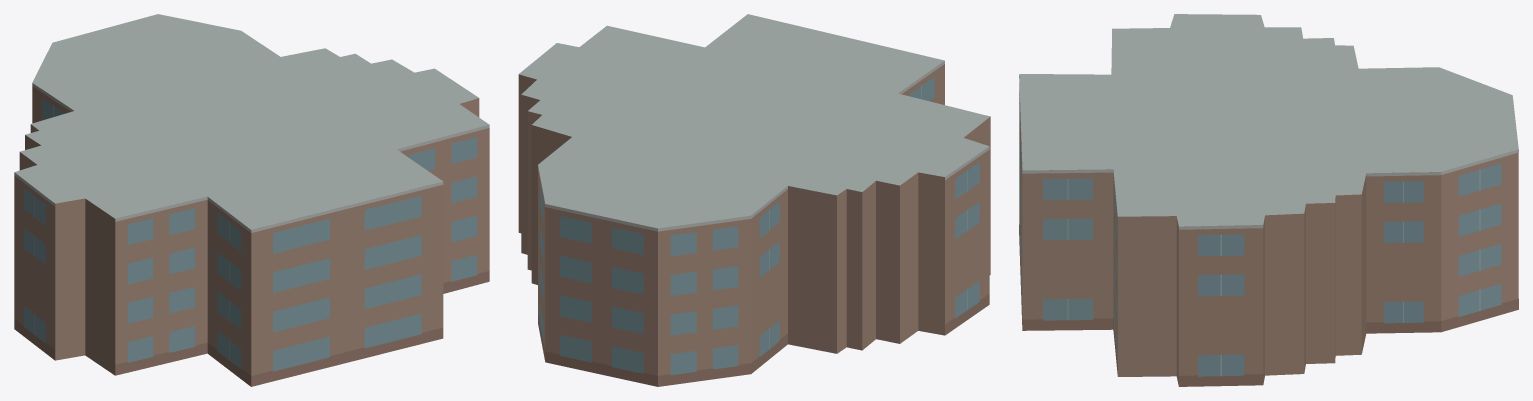
Rendered from survey-upis-32867643.glb.
3 views of the same model, side by side, from view 1: azimuth 30°, elevation 25°; view 2: azimuth 150°, elevation 25°; view 3: azimuth 270°, elevation 25° (orthographic). The views are drawn at different scales.
Visible parts, largest first — view 1: survey-upis-32867643.tmp; view 2: survey-upis-32867643.tmp; view 3: survey-upis-32867643.tmp.
Boxes of the visible parts, bbox=[...] form: survey-upis-32867643.tmp: bbox=[14, 14, 489, 386]; survey-upis-32867643.tmp: bbox=[518, 14, 990, 386]; survey-upis-32867643.tmp: bbox=[1019, 14, 1518, 386].
Size of the model in its own units: 34.69 by 12.2 by 34.46.
